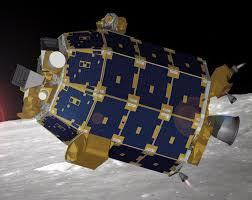body: (16, 32, 202, 172)
thruster: (208, 114, 241, 146), (225, 89, 237, 102), (177, 172, 190, 181), (234, 64, 244, 73)
